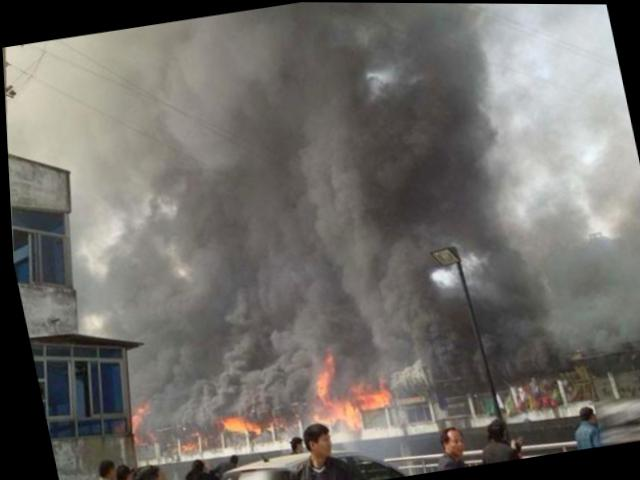fire: (214, 411, 261, 437), (323, 398, 356, 429), (348, 386, 387, 412), (122, 414, 139, 445), (316, 350, 333, 376), (308, 371, 324, 395)
